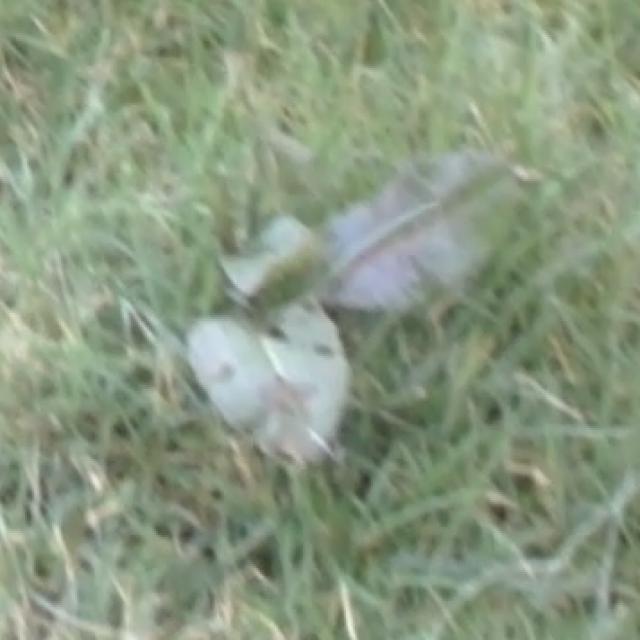organic waste: (118, 144, 590, 466)
